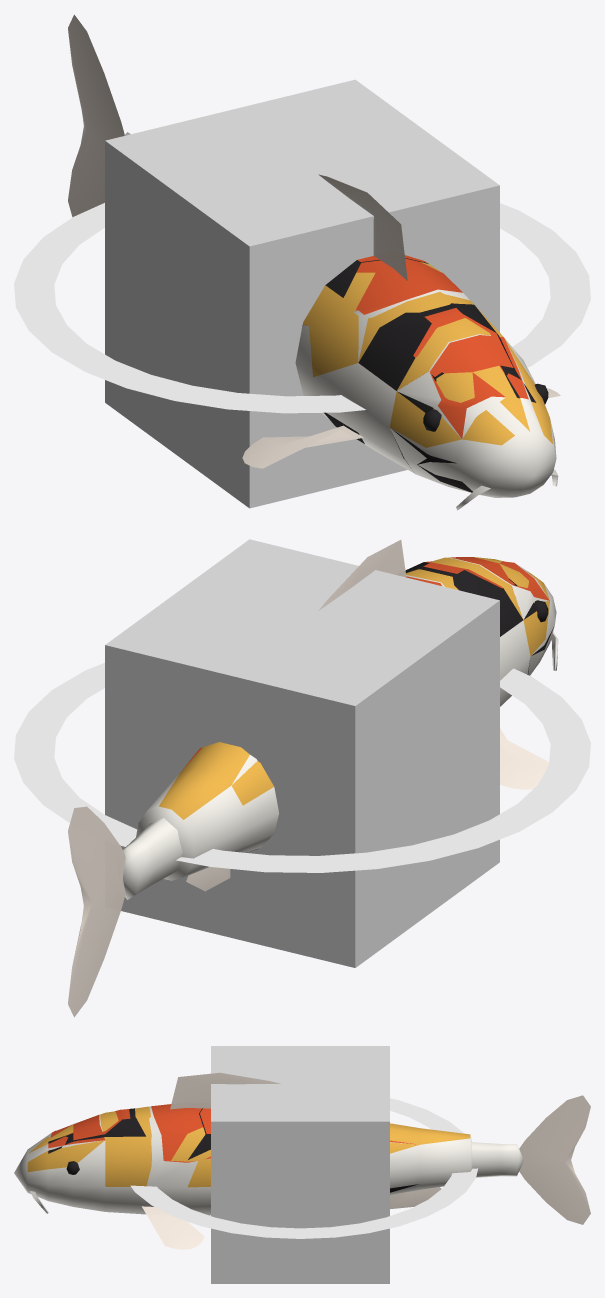
The model's file is BlossomSanctuary_Koi.fbx.
3 views of the same model, one above another, from view 1: azimuth 30°, elevation 25°; view 2: azimuth 150°, elevation 25°; view 3: azimuth 270°, elevation 25° (orthographic). The views are drawn at different scales.
Parts seen in each view (by area): view 1: BS_Anchor, BS_Ripple__Ripple, BS_KoiKohaku__KoiWhite, BS_KoiOgon__KoiGold, BS_KoiKohaku__KoiRed, BS_KoiKohakuTail__KoiFin, BS_KoiOgonTail__KoiFin, BS_KoiShowa__KoiBlack, BS_KoiKohaku__KoiFin, BS_KoiOgon__KoiFin, BS_KoiShowa__KoiRed, BS_KoiShowa__KoiWhite; view 2: BS_Anchor, BS_Ripple__Ripple, BS_KoiKohaku__KoiWhite, BS_KoiKohakuTail__KoiFin, BS_KoiOgonTail__KoiFin, BS_KoiOgon__KoiGold, BS_KoiKohaku__KoiFin, BS_KoiOgon__KoiFin, BS_KoiKohakuTail__KoiWhite, BS_KoiShowa__KoiBlack, BS_KoiKohaku__KoiRed; view 3: BS_Anchor, BS_KoiKohaku__KoiWhite, BS_KoiOgon__KoiGold, BS_Ripple__Ripple, BS_KoiKohakuTail__KoiFin, BS_KoiOgonTail__KoiFin, BS_KoiKohaku__KoiFin, BS_KoiOgon__KoiFin, BS_KoiKohaku__KoiRed, BS_KoiKohakuTail__KoiWhite, BS_KoiShowa__KoiBlack, BS_KoiShowa__KoiRed.
Boxes of the visible parts, <box> form: BS_Anchor: <box>105,79,499,508</box>; BS_Ripple__Ripple: <box>14,203,590,413</box>; BS_KoiKohaku__KoiWhite: <box>295,289,558,510</box>; BS_KoiOgon__KoiGold: <box>303,262,552,447</box>; BS_KoiKohaku__KoiRed: <box>302,258,528,438</box>; BS_KoiKohakuTail__KoiFin: <box>68,15,124,216</box>; BS_KoiOgonTail__KoiFin: <box>68,15,124,216</box>; BS_KoiShowa__KoiBlack: <box>324,258,536,492</box>; BS_KoiKohaku__KoiFin: <box>242,174,560,468</box>; BS_KoiOgon__KoiFin: <box>243,175,560,468</box>; BS_KoiShowa__KoiRed: <box>357,255,513,376</box>; BS_KoiShowa__KoiWhite: <box>390,428,439,481</box>; BS_Anchor: <box>105,539,499,967</box>; BS_Ripple__Ripple: <box>14,663,590,872</box>; BS_KoiKohaku__KoiWhite: <box>136,557,558,880</box>; BS_KoiKohakuTail__KoiFin: <box>68,806,125,1017</box>; BS_KoiOgonTail__KoiFin: <box>68,807,125,1016</box>; BS_KoiOgon__KoiGold: <box>158,557,549,819</box>; BS_KoiKohaku__KoiFin: <box>186,540,549,891</box>; BS_KoiOgon__KoiFin: <box>186,540,548,890</box>; BS_KoiKohakuTail__KoiWhite: <box>123,818,182,899</box>; BS_KoiShowa__KoiBlack: <box>247,562,553,852</box>; BS_KoiKohaku__KoiRed: <box>182,557,549,770</box>; BS_Anchor: <box>211,1046,389,1283</box>; BS_KoiKohaku__KoiWhite: <box>14,1106,472,1215</box>; BS_KoiOgon__KoiGold: <box>27,1106,470,1187</box>; BS_Ripple__Ripple: <box>130,1098,477,1238</box>; BS_KoiKohakuTail__KoiFin: <box>519,1095,590,1224</box>; BS_KoiOgonTail__KoiFin: <box>519,1096,590,1224</box>; BS_KoiKohaku__KoiFin: <box>142,1072,441,1249</box>; BS_KoiOgon__KoiFin: <box>142,1073,440,1249</box>; BS_KoiKohaku__KoiRed: <box>48,1104,418,1162</box>; BS_KoiKohakuTail__KoiWhite: <box>471,1142,523,1177</box>; BS_KoiShowa__KoiBlack: <box>48,1108,419,1192</box>; BS_KoiShowa__KoiRed: <box>73,1108,210,1140</box>.
Bounding box in the file's own units: 2 × 1.07 × 3.22.
